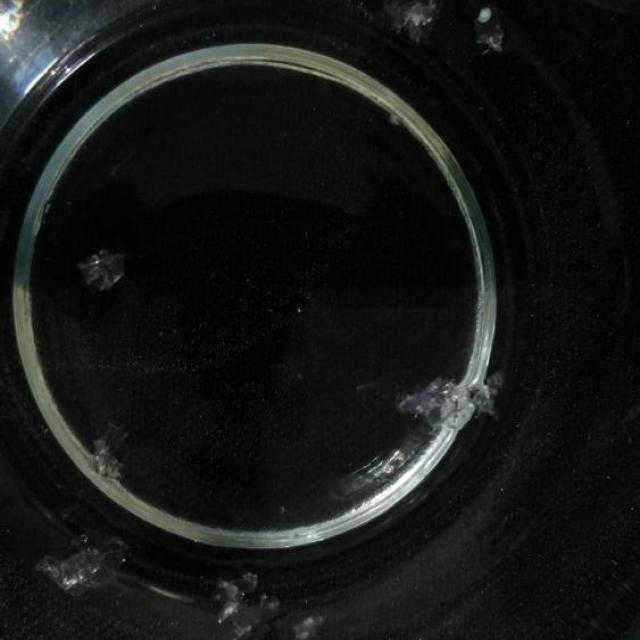fiber: (211, 567, 319, 640), (30, 532, 134, 604), (394, 374, 508, 428), (364, 2, 445, 43), (74, 245, 134, 291), (470, 0, 506, 56), (92, 422, 124, 482)
